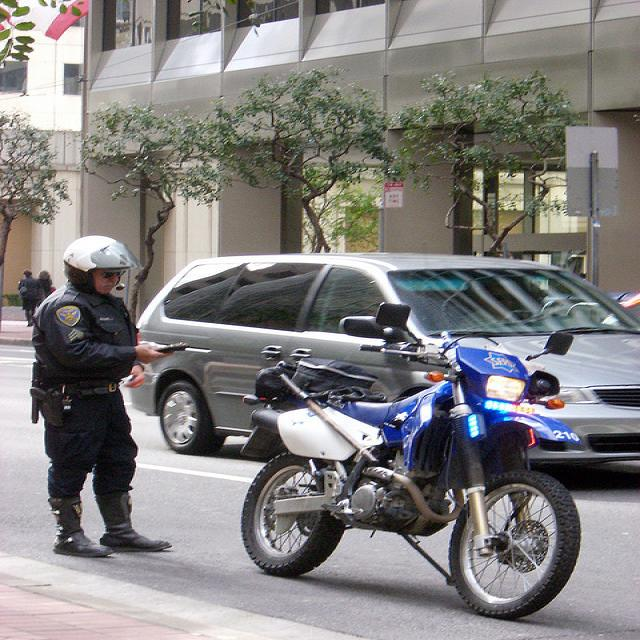motor: (240, 300, 585, 619)
